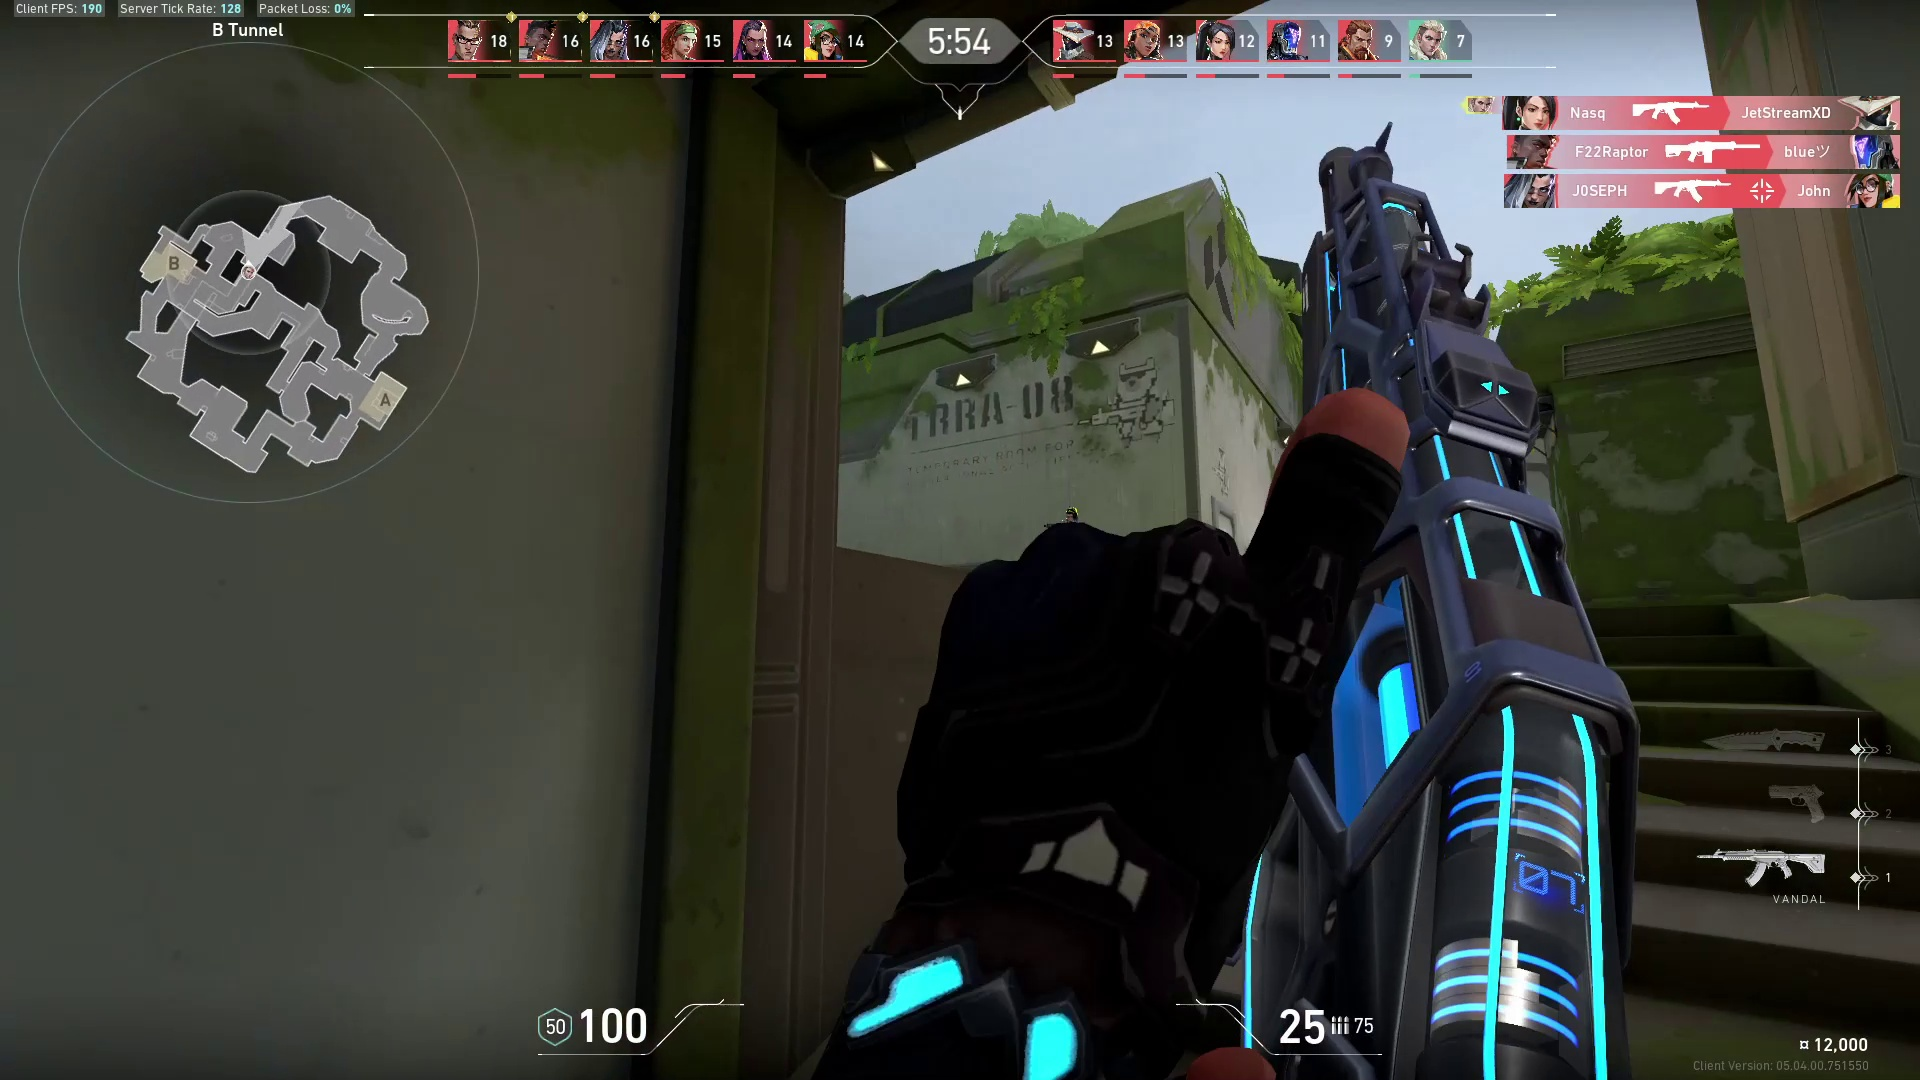enemy_head: (1054, 501, 1087, 529)
